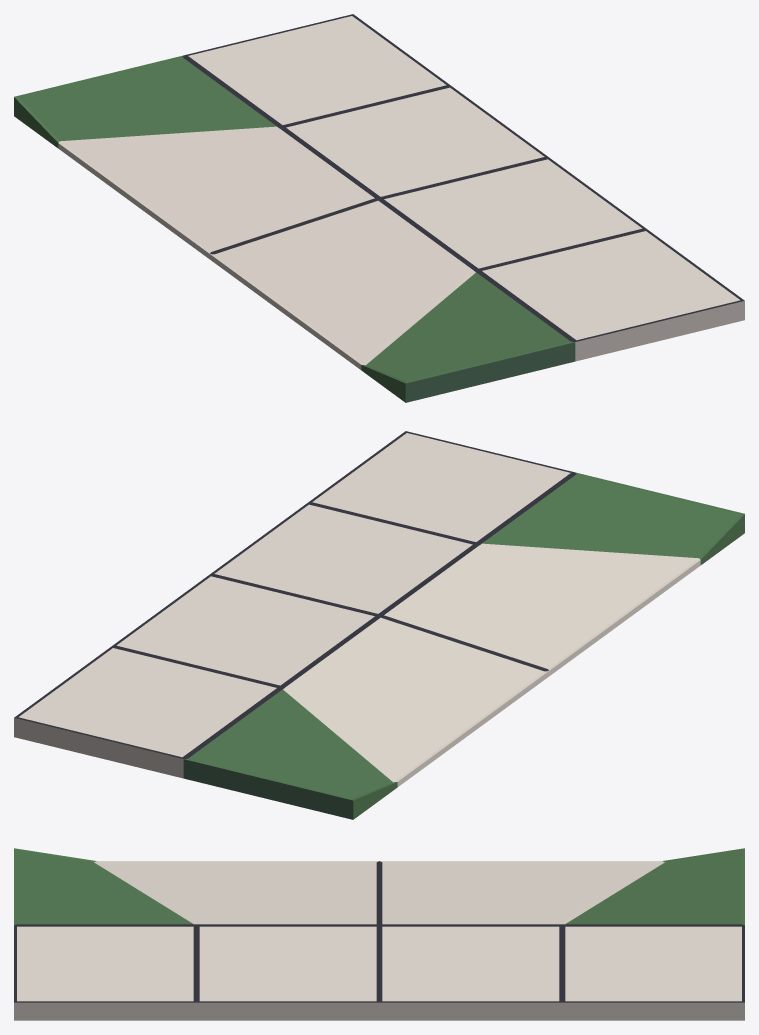
File: driveway.fbx
The picture shows the model from 3 angles, top to bottom: view 1: azimuth 30°, elevation 25°; view 2: azimuth 150°, elevation 25°; view 3: azimuth 270°, elevation 25°; orthographic projection. The views are drawn at different scales.
Parts seen in each view (by area): view 1: Cube.002, Cube.005; view 2: Cube.002, Cube.005; view 3: Cube.005, Cube.002.
Boxes of the visible parts, x1,y1,x2,y2 form: Cube.002: (14, 55, 576, 402); Cube.005: (184, 14, 744, 361); Cube.002: (182, 472, 744, 819); Cube.005: (14, 431, 574, 778); Cube.005: (14, 925, 744, 1020); Cube.002: (14, 848, 744, 926).
Bounding box in the file's own units: 366 × 20 × 732.
